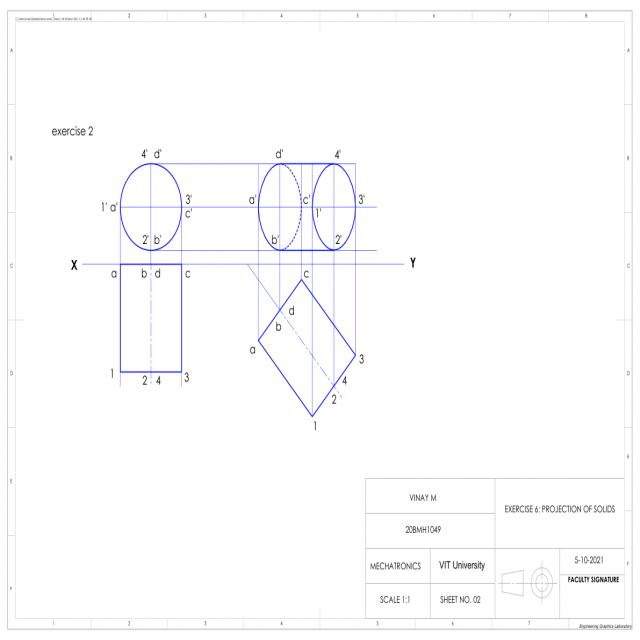Drawings: (82, 143, 386, 434)
